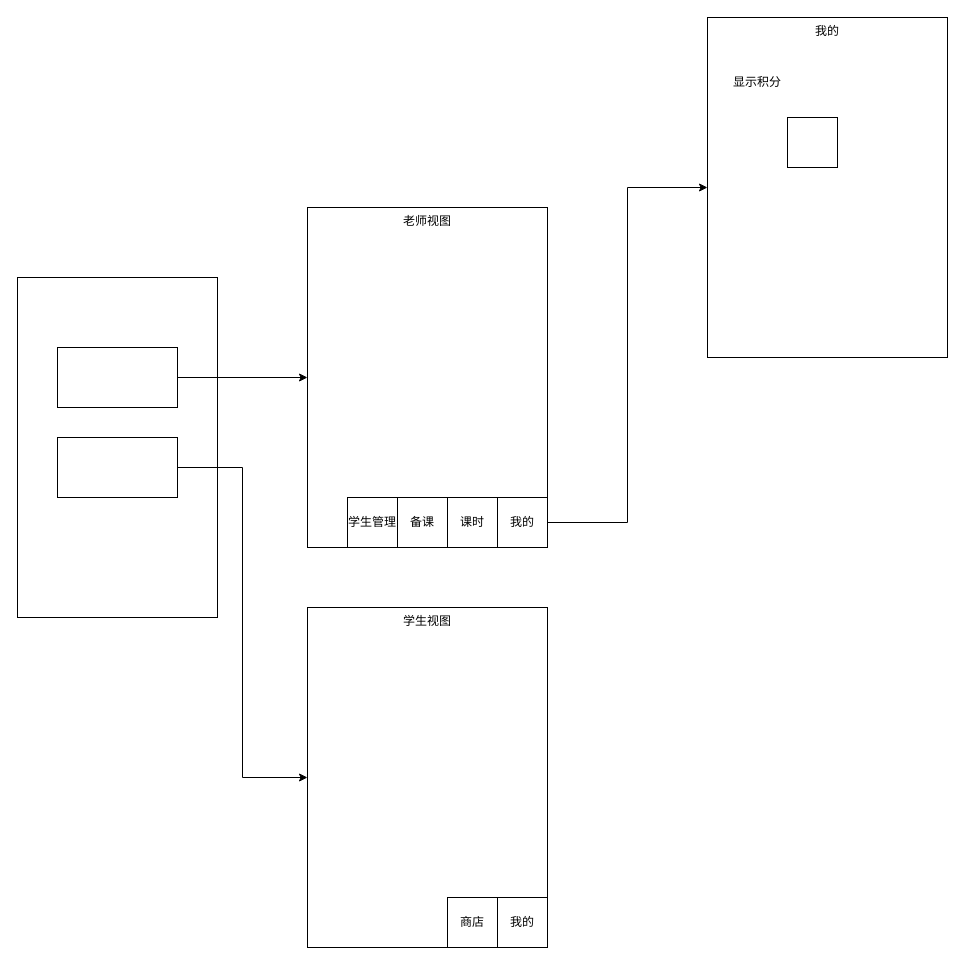
The diagram is 965 pixels wide and 965 high, and some of its shapes have lost their labels. The centre of each missing label's shape, as x and y in pixels:
我是学生: the point at 117,467
我是老师: the point at 117,377
系统设置: the point at 812,142
